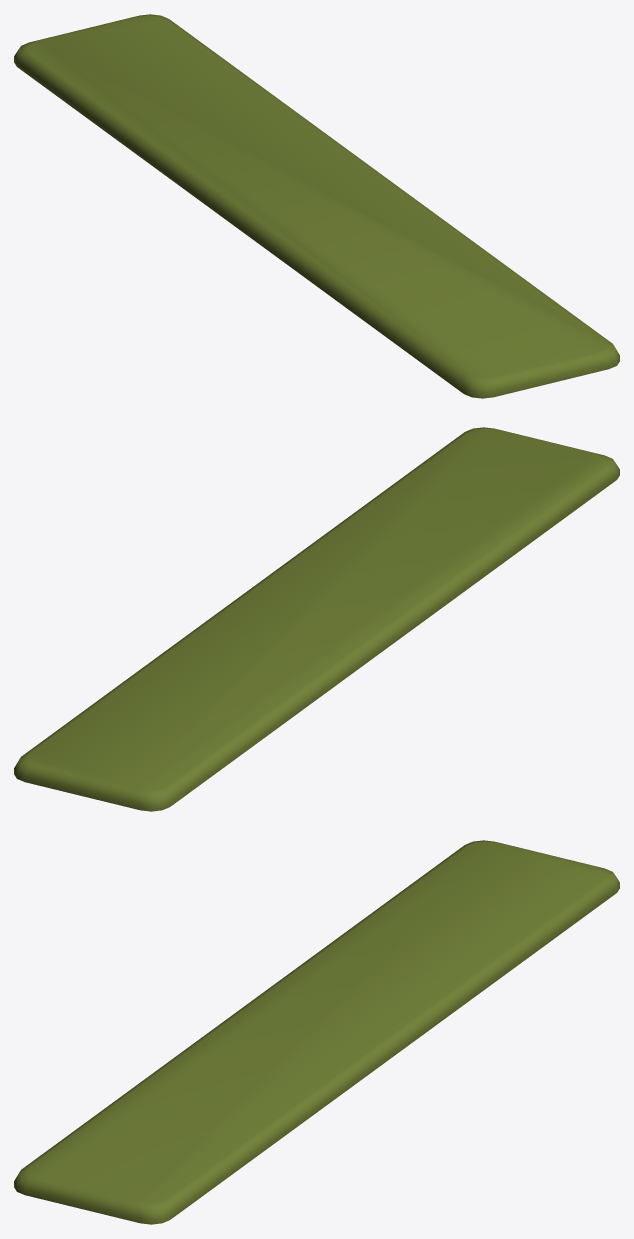
The model's file is Floor (Grass Long).fbx.
3 renders of one model, top to bottom at view 1: azimuth 30°, elevation 25°; view 2: azimuth 150°, elevation 25°; view 3: azimuth 330°, elevation 25°, orthographic.
Visible parts, largest first — view 1: Floor (Grass Long); view 2: Floor (Grass Long); view 3: Floor (Grass Long).
Part boxes in pixels (x1,y1,x2,y2): Floor (Grass Long): (14, 14, 619, 398); Floor (Grass Long): (14, 427, 619, 811); Floor (Grass Long): (14, 840, 619, 1224).
Bounding box in the file's own units: 4566 × 427 × 24183.
